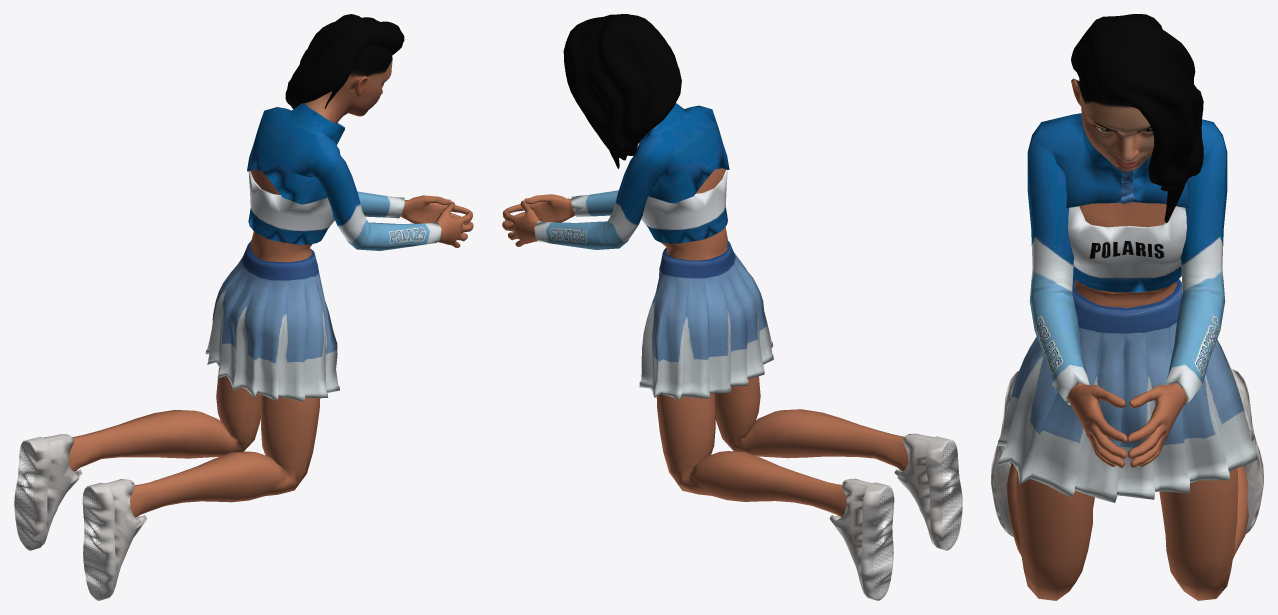
Rendered from pole_char16.glb.
3 views of the same model, side by side, from view 1: azimuth 30°, elevation 25°; view 2: azimuth 150°, elevation 25°; view 3: azimuth 270°, elevation 25° (orthographic). The views are drawn at different scales.
Bounding box in the file's own units: 1.07 × 1.2 × 0.4078.
Materials: 8 (8 with a texture image).
